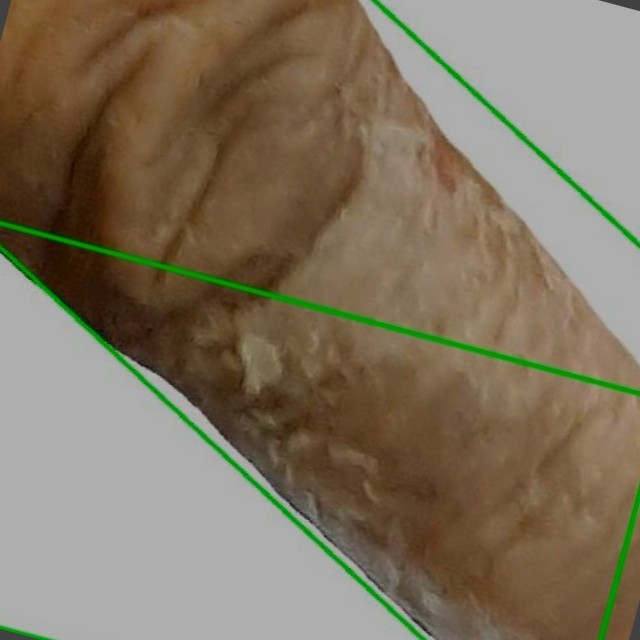Eczema: (0, 0, 639, 639), (0, 223, 639, 639)
